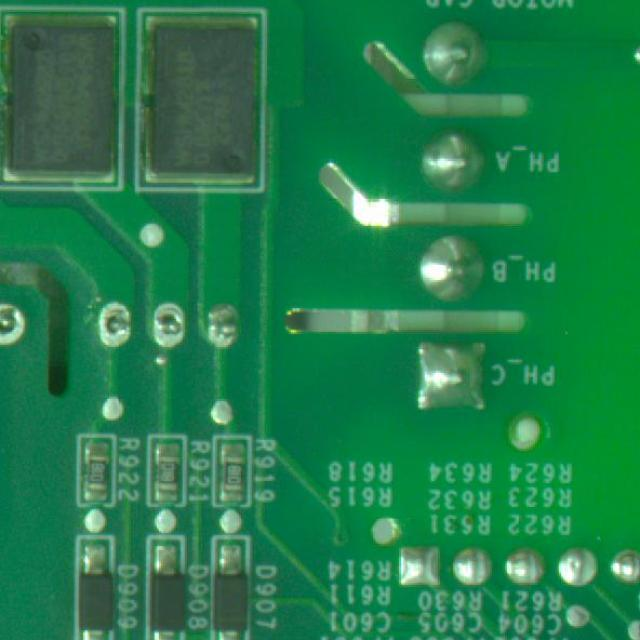Insufficient solder: (96, 295, 134, 353), (152, 294, 186, 352), (204, 302, 241, 348), (0, 300, 29, 350)
